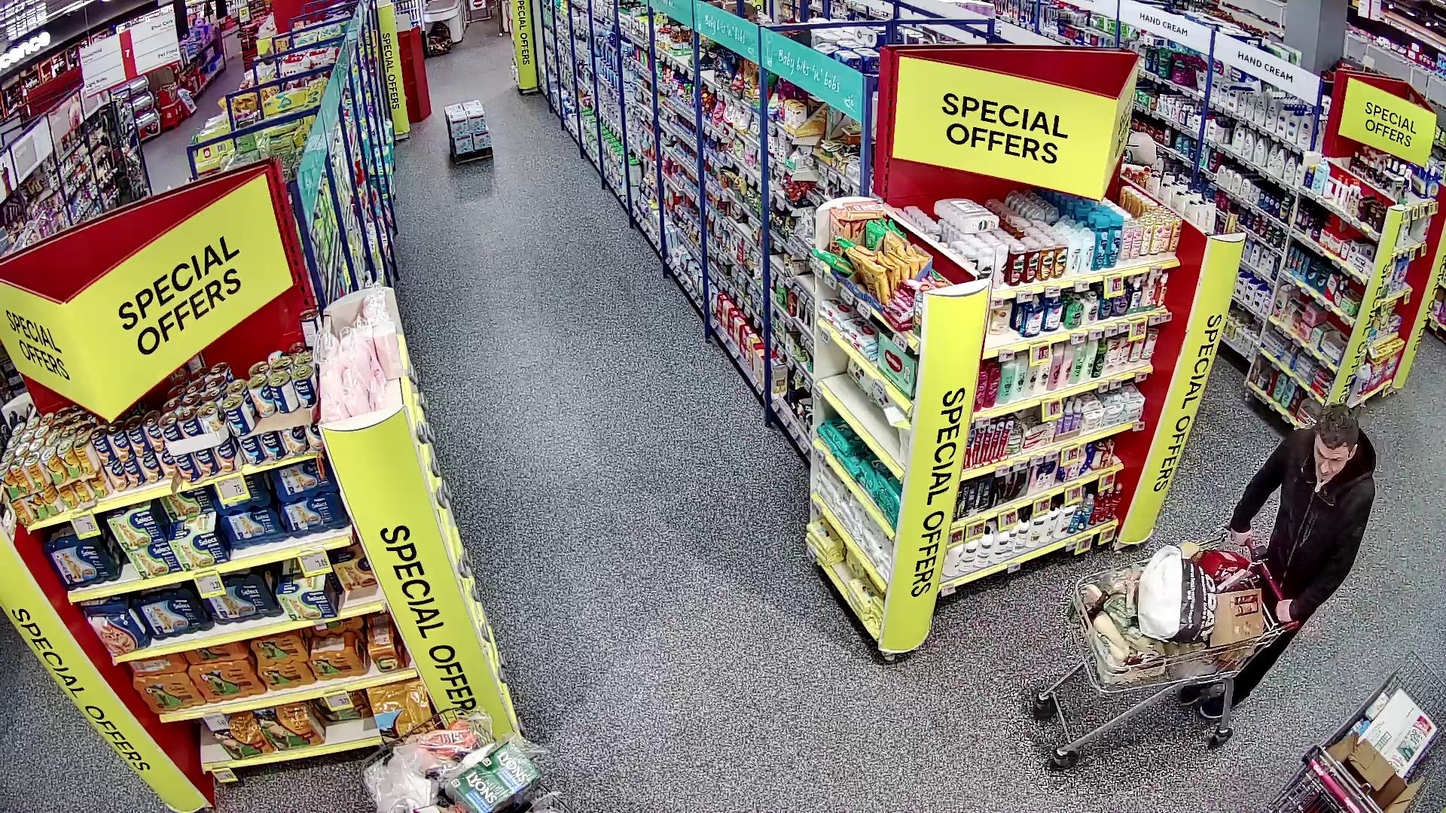filled-trolly: (1032, 525, 1300, 771)
person: (1231, 406, 1375, 714)
person-with-filled-basket-trolly: (1032, 405, 1373, 771)
